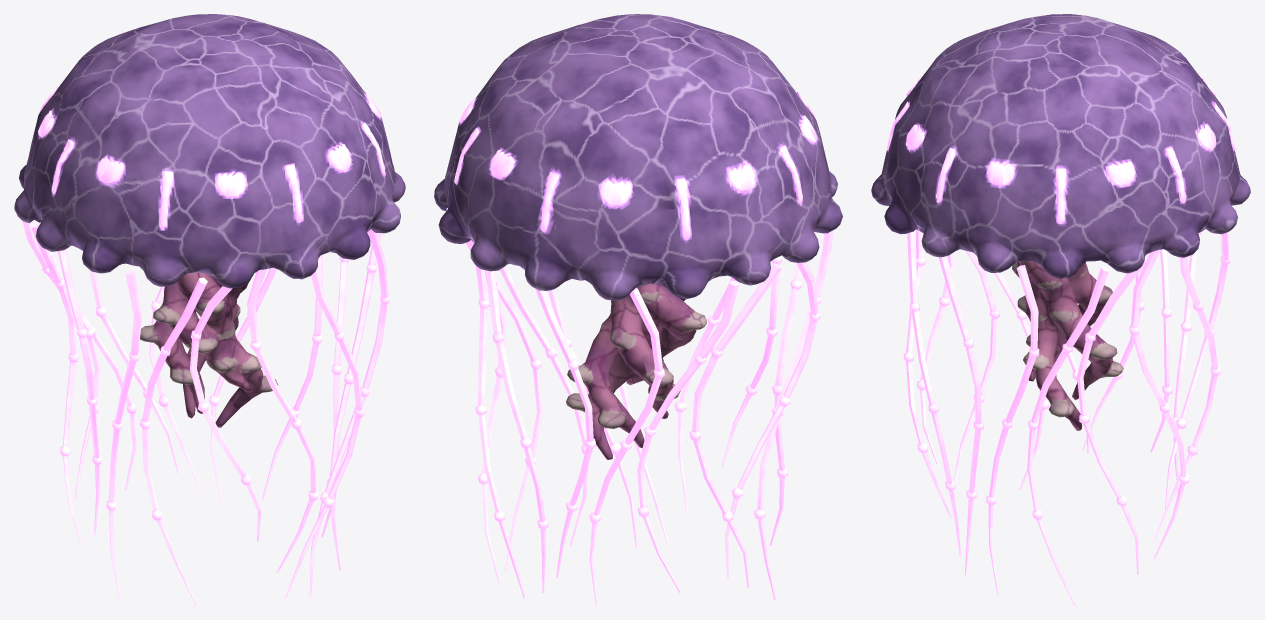
The model's file is bestia_medusa.fbx.
The picture shows the model from 3 angles, left to right: view 1: azimuth 30°, elevation 25°; view 2: azimuth 150°, elevation 25°; view 3: azimuth 270°, elevation 25°; orthographic projection. The views are drawn at different scales.
Visible parts, largest first — view 1: campana_cristal, tentaculos_b_neon, tentaculos_a_neon, brazos_orales, patrones_neon; view 2: campana_cristal, tentaculos_a_neon, tentaculos_b_neon, brazos_orales, patrones_neon; view 3: campana_cristal, tentaculos_a_neon, tentaculos_b_neon, brazos_orales, patrones_neon.
Boxes of the visible parts, x1,y1,x2,y2 form: campana_cristal: (14,14,405,288); tentaculos_b_neon: (29,220,381,605); tentaculos_a_neon: (22,220,390,605); brazos_orales: (140,272,278,427); patrones_neon: (38,87,385,230); campana_cristal: (434,14,842,300); tentaculos_a_neon: (465,240,820,598); tentaculos_b_neon: (446,208,833,605); brazos_orales: (566,283,707,459); patrones_neon: (454,91,817,240); campana_cristal: (871,14,1250,278); tentaculos_a_neon: (903,229,1230,605); tentaculos_b_neon: (907,230,1220,594); brazos_orales: (1012,261,1123,430); patrones_neon: (886,74,1235,224).
Bounding box in the file's own units: 12 × 18.01 × 12.01.
Materials: 1 (1 with a texture image).
